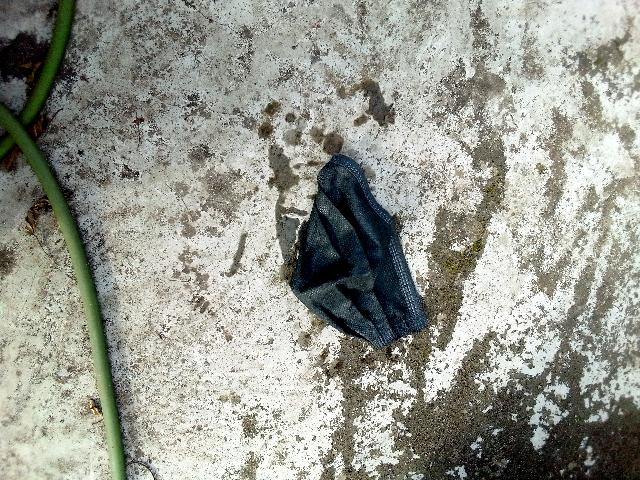mask: (287, 136, 450, 362)
